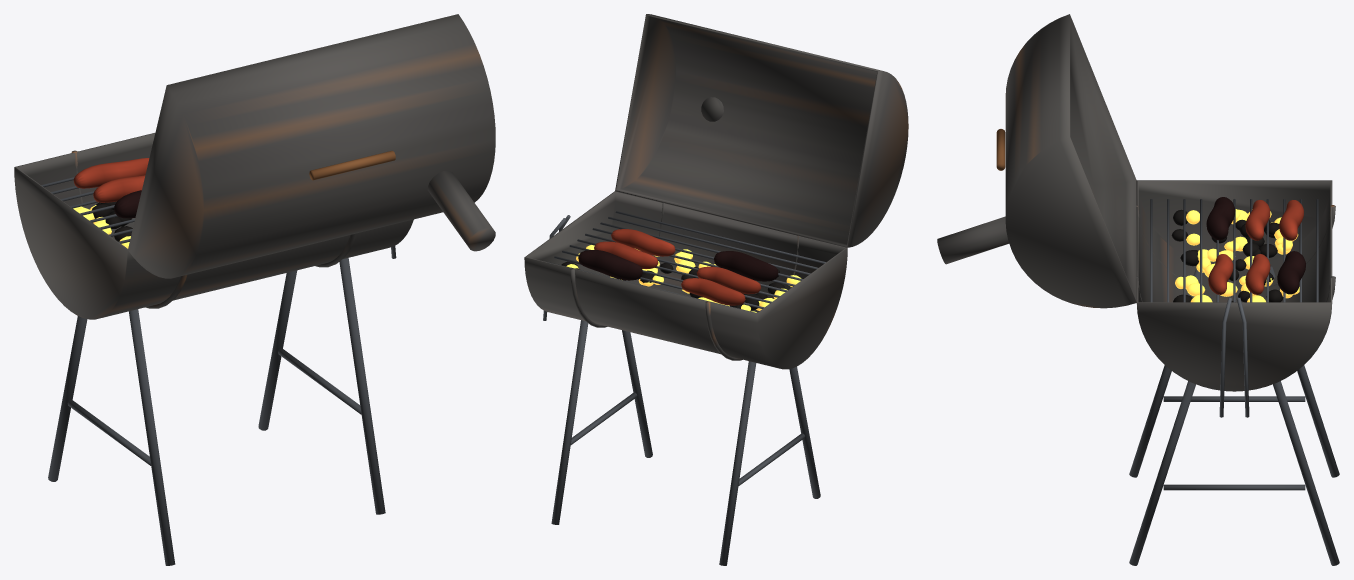
Rendered from prop_chulengo.glb.
3 views of the same model, side by side, from view 1: azimuth 30°, elevation 25°; view 2: azimuth 150°, elevation 25°; view 3: azimuth 270°, elevation 25° (orthographic). The views are drawn at different scales.
Visible parts, largest first — view 1: prop_chulengo; view 2: prop_chulengo; view 3: prop_chulengo.
Boxes of the visible parts, bbox=[...] form: prop_chulengo: bbox=[14, 14, 495, 565]; prop_chulengo: bbox=[524, 14, 908, 565]; prop_chulengo: bbox=[937, 14, 1339, 565].
Size of the model in its own units: 0.936 by 1.46 by 1.19.
